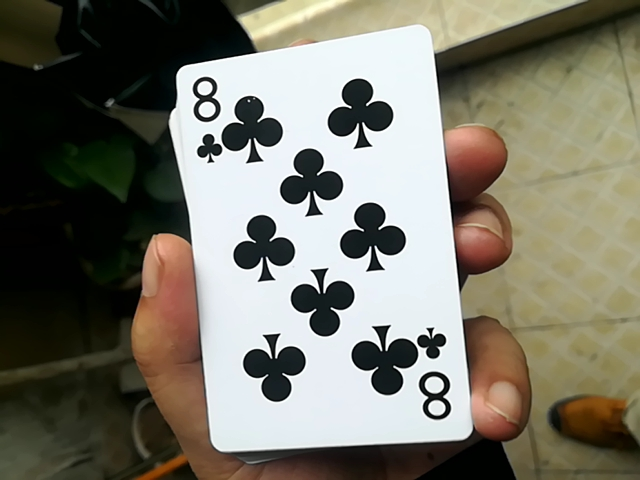mh 8: (151, 22, 464, 458)
